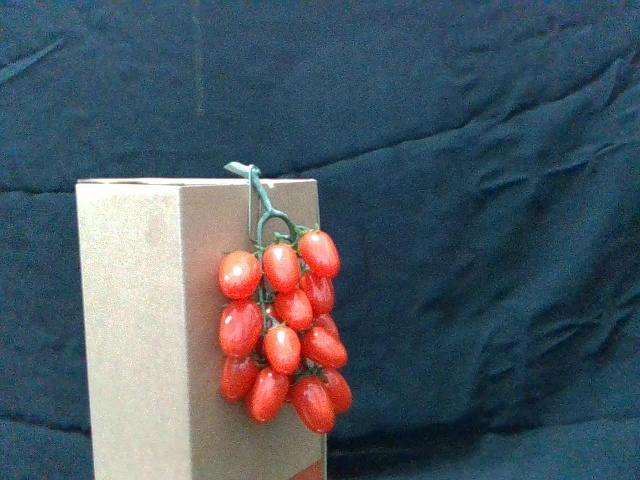tomato: (294, 376, 336, 439), (218, 299, 262, 359), (247, 366, 292, 424), (301, 324, 350, 372), (296, 228, 341, 278), (263, 242, 302, 297), (220, 248, 262, 299), (263, 325, 304, 376), (219, 354, 259, 404), (274, 285, 313, 333), (314, 367, 352, 415), (297, 270, 335, 317)
